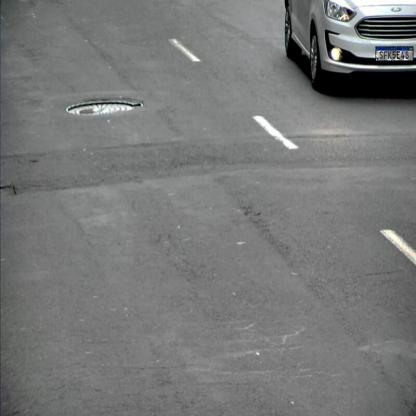PlacaM: (376, 46, 414, 61)
